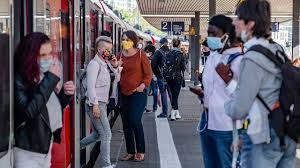mask_weared_incorrect: (230, 16, 250, 39)
with_mask: (39, 50, 54, 71), (205, 30, 224, 45), (100, 45, 113, 57), (120, 38, 134, 48), (200, 46, 210, 56), (137, 40, 144, 49), (145, 50, 151, 58)
